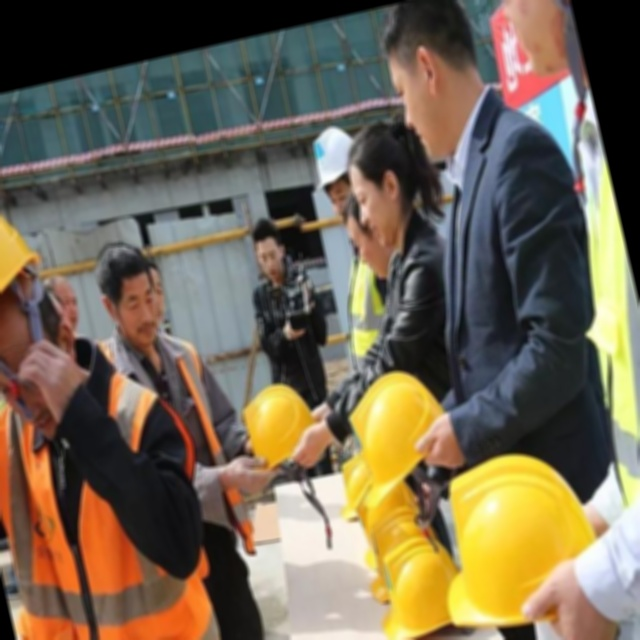Con_Casco: (343, 364, 469, 503), (235, 377, 322, 481)
Con_Chaleco: (0, 362, 246, 640)
Sin_Casco_Mascarrilla: (374, 0, 493, 162), (89, 238, 169, 351)
